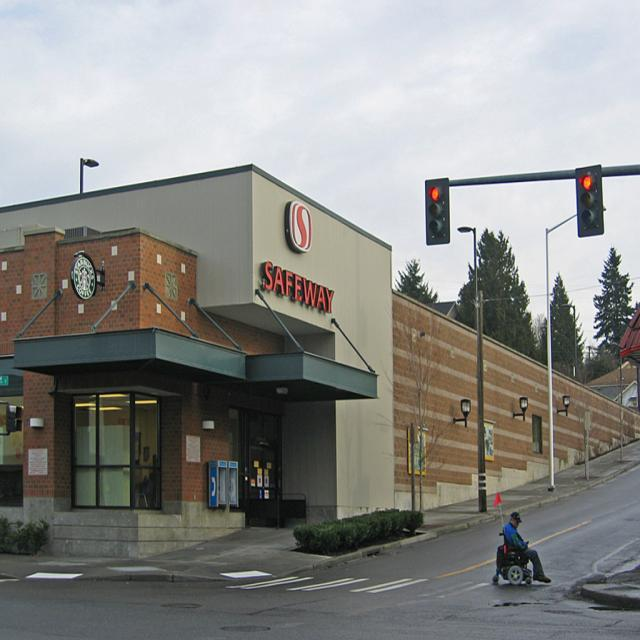traffic light: (578, 172, 598, 229), (428, 185, 448, 239)
